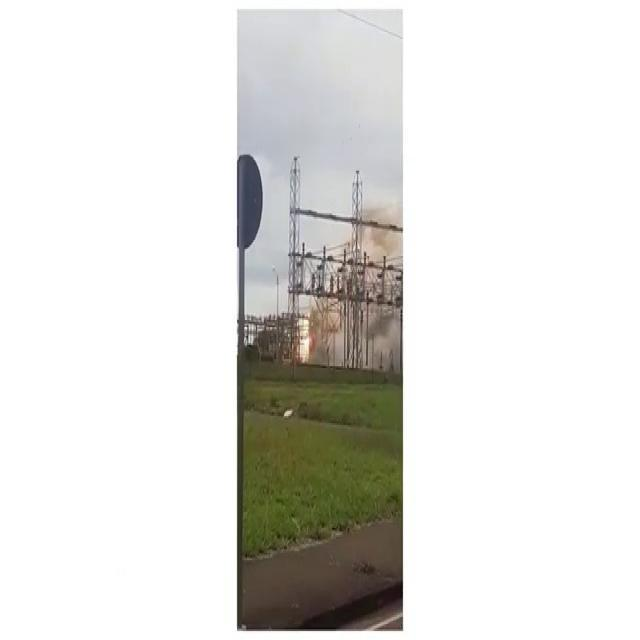Fire: (296, 312, 310, 363)
Smoke: (366, 304, 398, 369), (365, 210, 400, 260), (320, 306, 346, 366)
